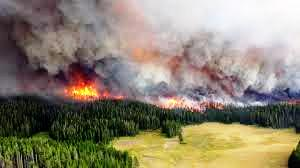fire: (149, 90, 233, 115), (56, 75, 120, 105)
